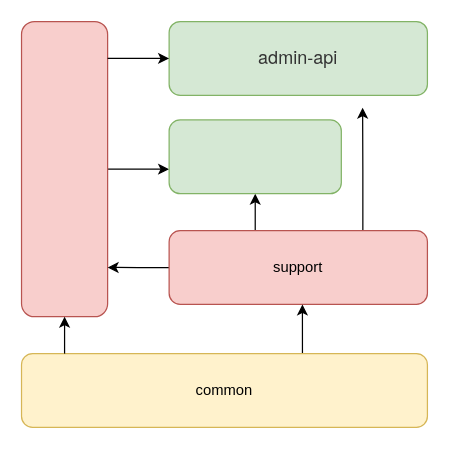
This 449x449 diagram has some shape labels left out. The centre of each missing label's shape, as x and y in pixels:
handler: pixel 64 168
web-api: pixel 254 156
